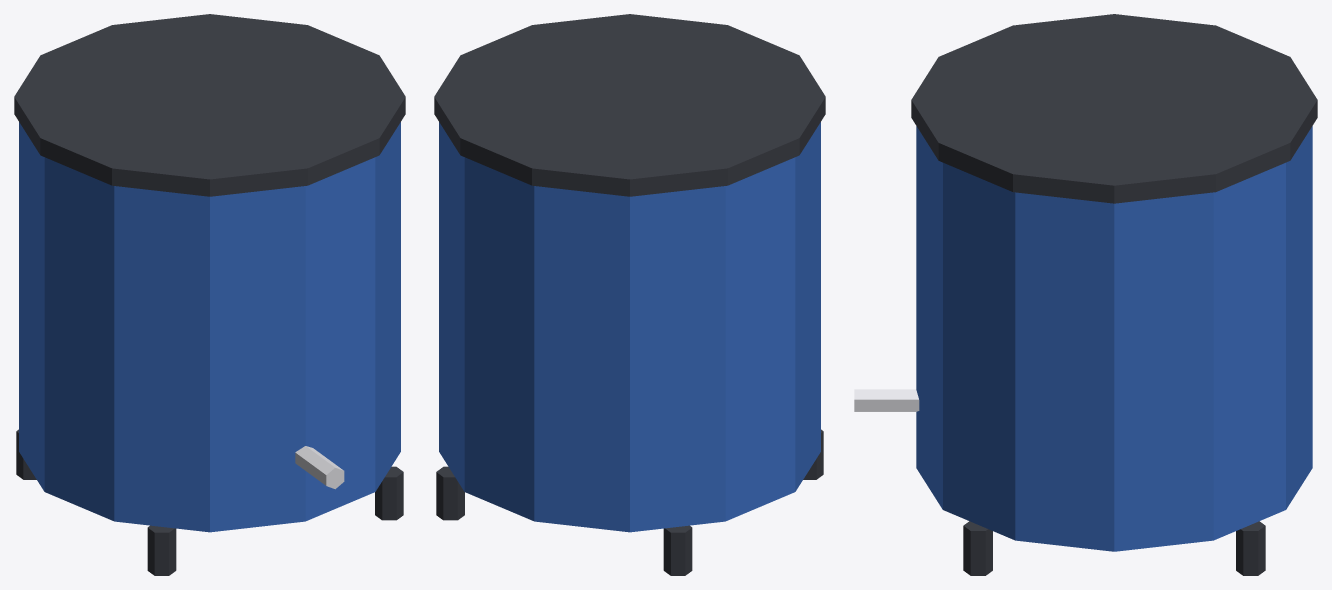
The model's file is hydro_water_tank.glb.
The picture shows the model from 3 angles, left to right: view 1: azimuth 30°, elevation 25°; view 2: azimuth 150°, elevation 25°; view 3: azimuth 270°, elevation 25°; orthographic projection. The views are drawn at different scales.
Parts seen in each view (by area): view 1: water_tank; view 2: water_tank; view 3: water_tank.
Boxes of the visible parts, box(x1,y1,x2,y2) form: water_tank: box(14, 14, 405, 575); water_tank: box(434, 14, 825, 575); water_tank: box(854, 14, 1317, 575).
Bounding box in the file's own units: 1.64 × 1.84 × 1.87.
